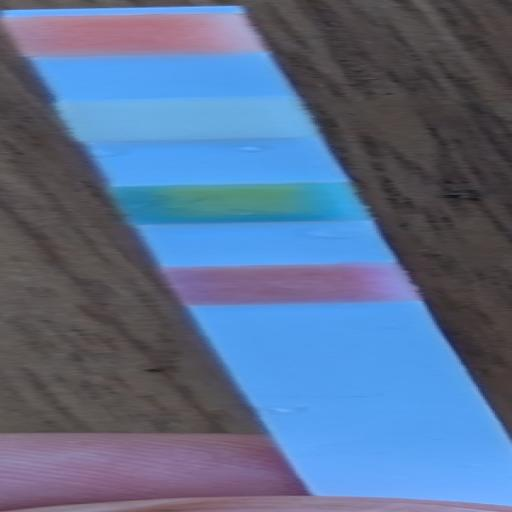pads: (51, 94, 315, 144), (155, 262, 417, 306), (106, 182, 367, 225), (6, 13, 248, 58)
